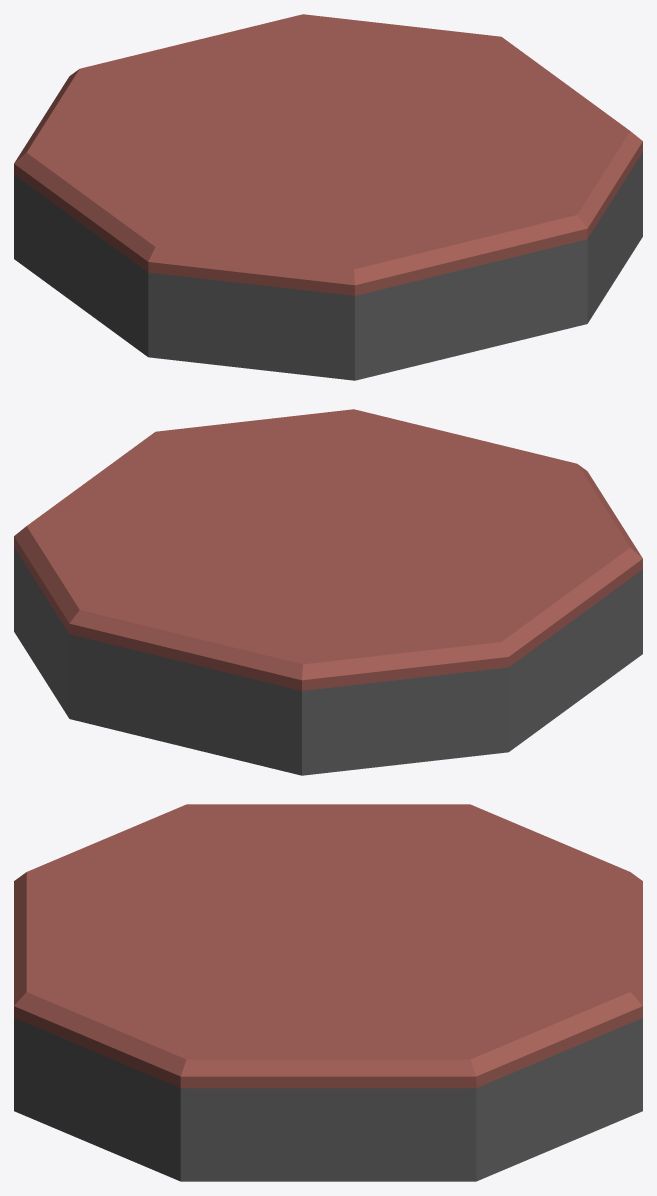
File: gach_bat_giac.glb
3 renders of one model, top to bottom at view 1: azimuth 30°, elevation 25°; view 2: azimuth 150°, elevation 25°; view 3: azimuth 270°, elevation 25°, orthographic. The views are drawn at different scales.
Parts seen in each view (by area): view 1: gach_bat_giac; view 2: gach_bat_giac; view 3: gach_bat_giac.
Boxes of the visible parts, x1,y1,x2,y2 form: gach_bat_giac: (14,14,642,380); gach_bat_giac: (14,409,642,775); gach_bat_giac: (14,804,642,1181).
Size of the model in its own units: 0.293 by 0.06 by 0.293.
